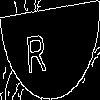R: (25, 25, 47, 74)
